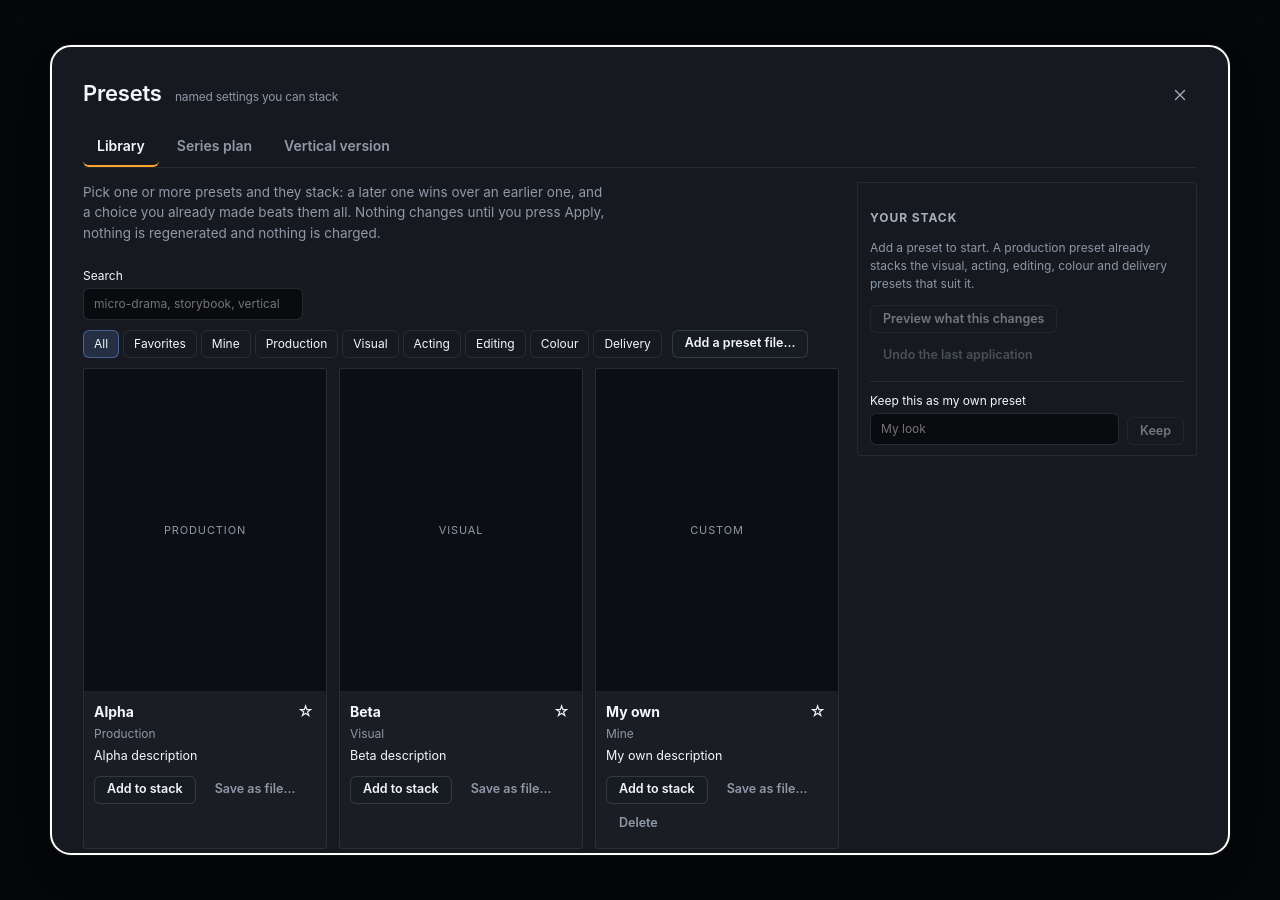
Test case: the presets sheet › looking applies nothing and undo is off until something was applied
Click the button "Add to stack" below "Alpha description" at point(145, 790), box [94,776,196,804]
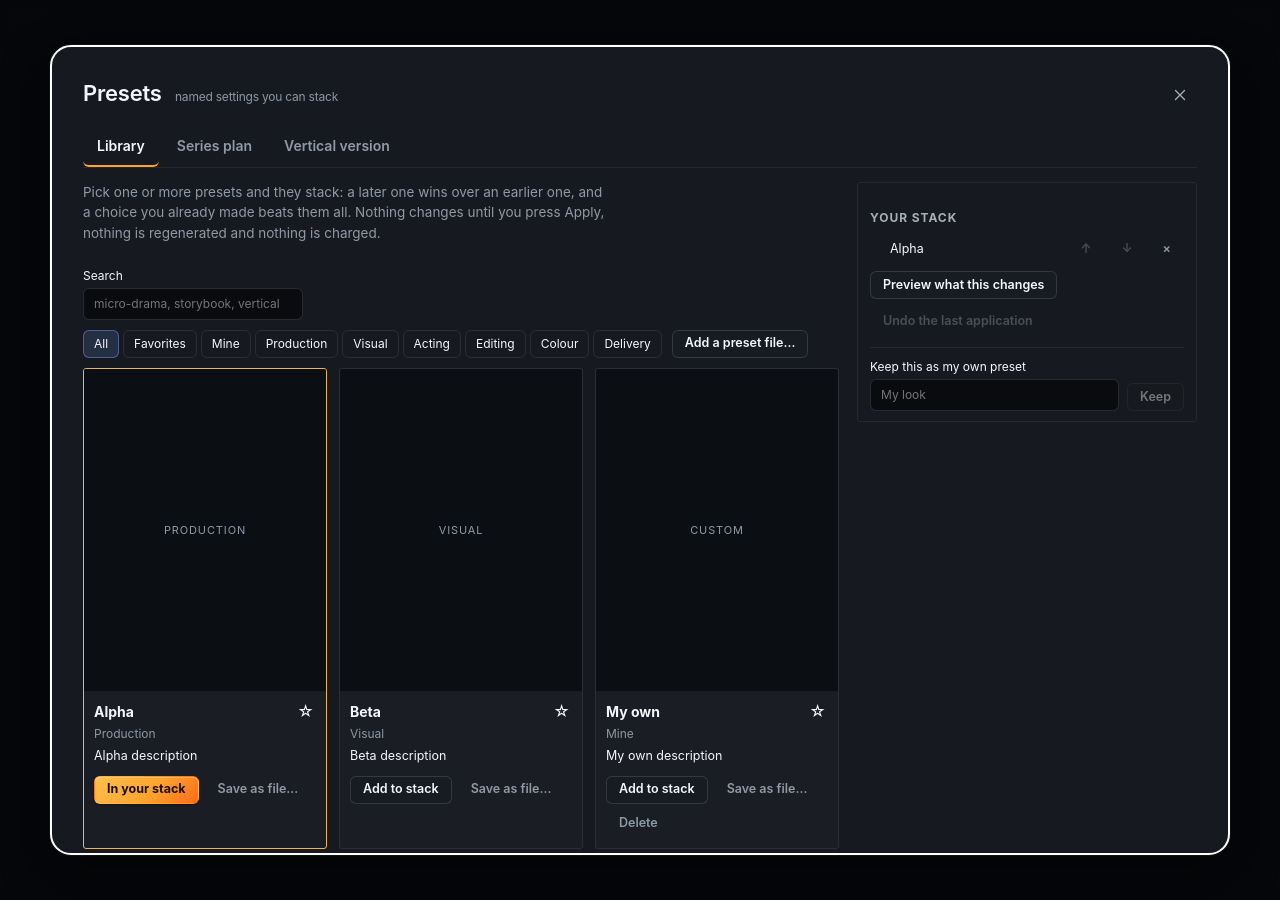
Click the button "Preview what this changes" at point(964, 285), box [870,271,1058,299]
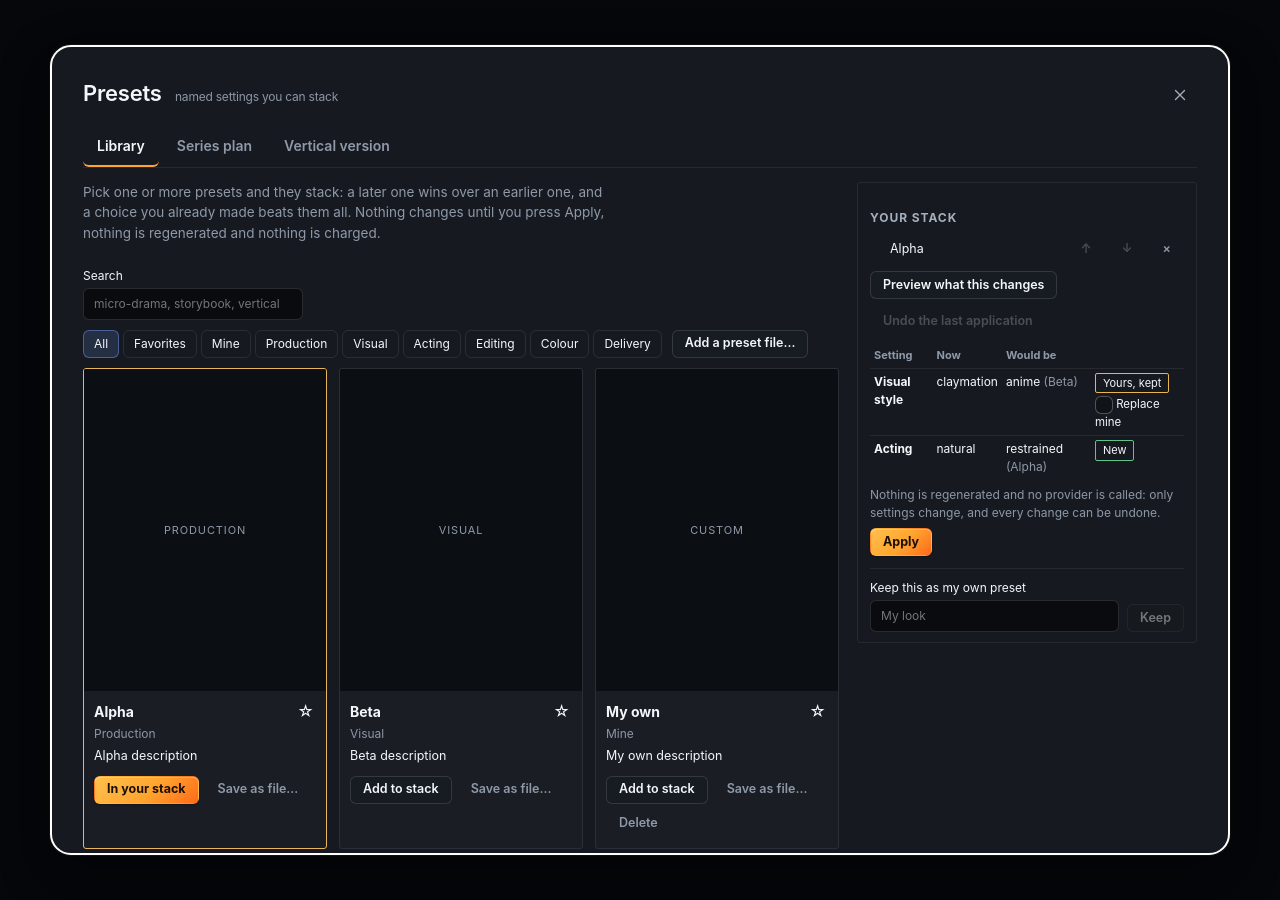
Expected: the button "Undo the last application" is disabled, [870,307,1046,335]
Now the element named "What would change" is shown, box [870,343,1184,556]
